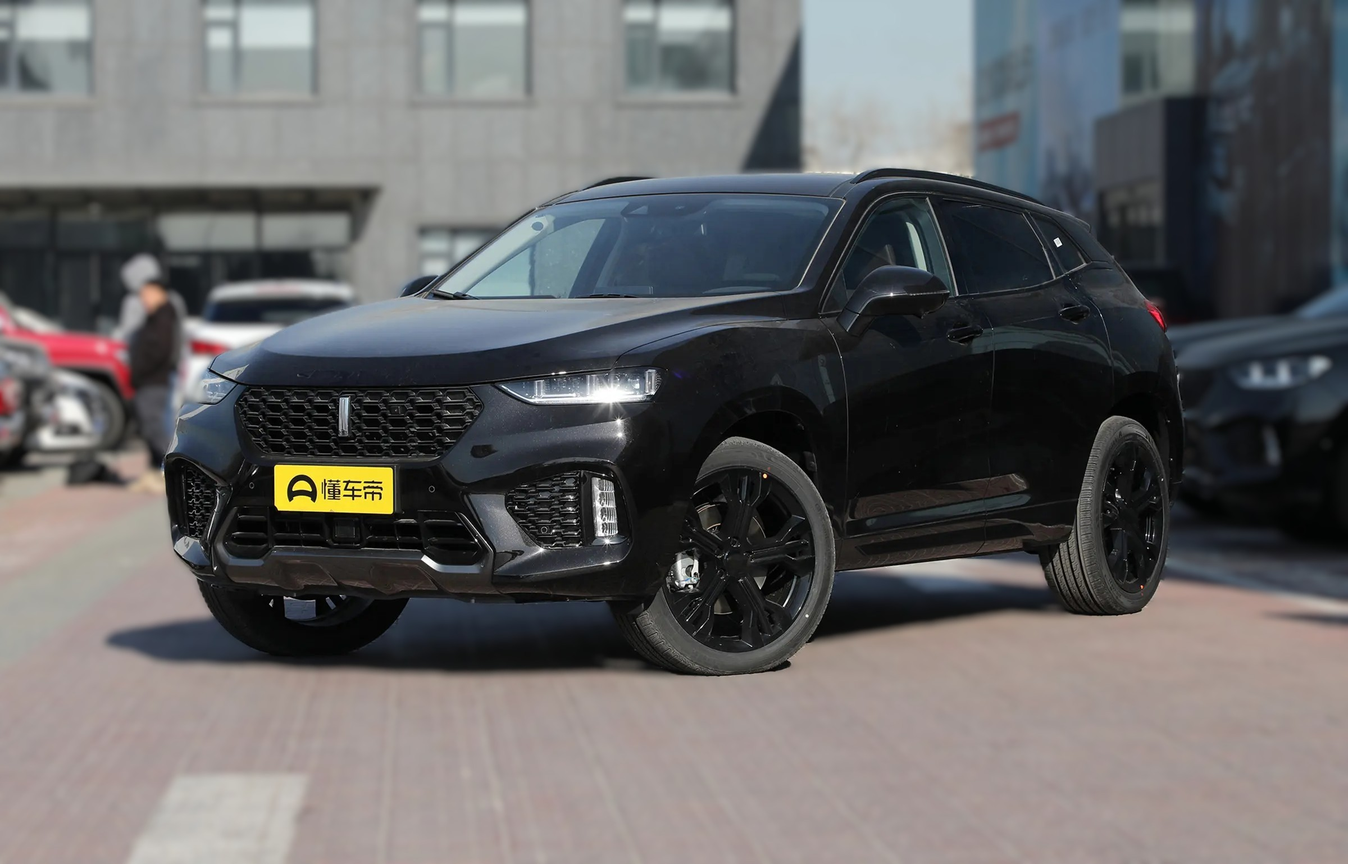WEY: (339, 398, 348, 436)
